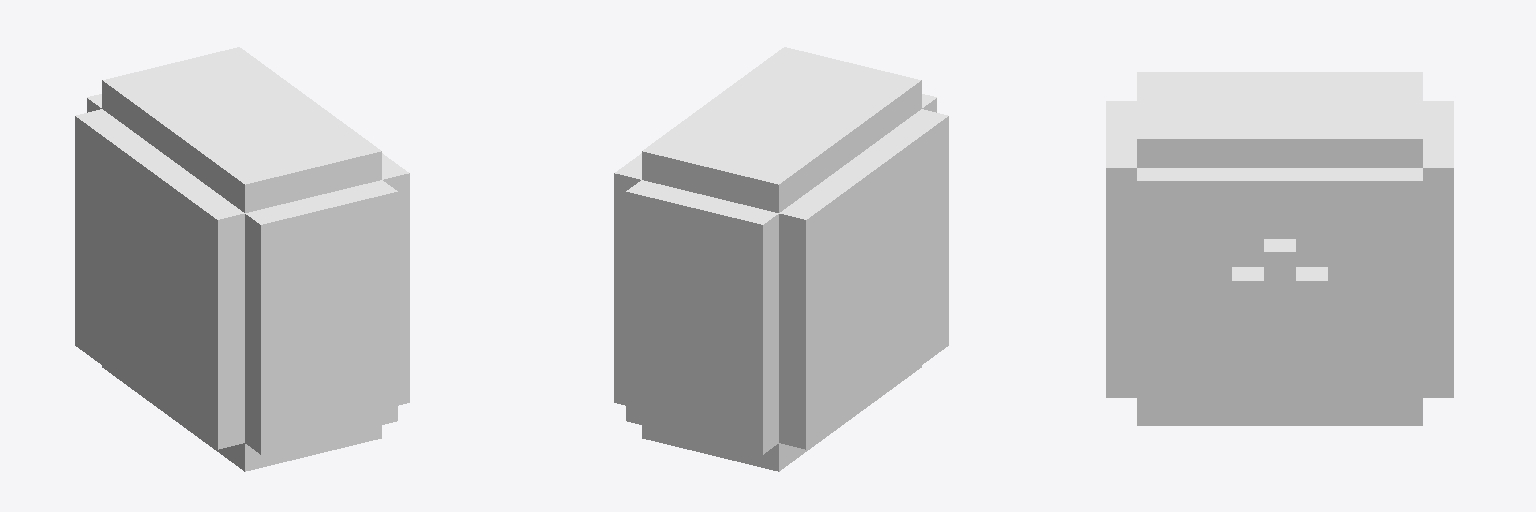
File: first_aid.obj
3 renders of one model, left to right at view 1: azimuth 30°, elevation 25°; view 2: azimuth 150°, elevation 25°; view 3: azimuth 270°, elevation 25°, orthographic.
Visible parts, largest first — view 1: object 1; view 2: object 1; view 3: object 1.
Boxes of the visible parts, box(x1,y1,x2,y2) form: object 1: box(75, 47, 409, 471); object 1: box(614, 47, 948, 471); object 1: box(1106, 72, 1453, 425).
Size of the model in its own units: 0.8 by 1 by 1.1.